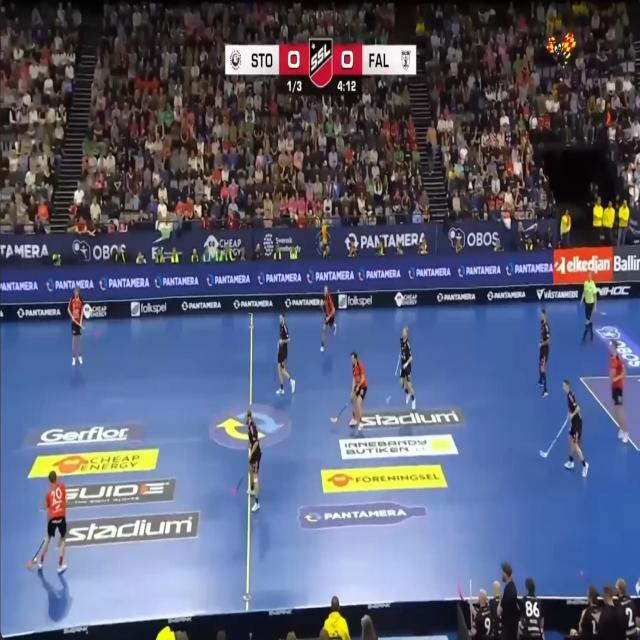player: (38, 472, 67, 573), (562, 380, 588, 477), (609, 339, 628, 442), (614, 578, 640, 639), (246, 410, 261, 512), (571, 585, 599, 639), (276, 314, 295, 393), (518, 577, 543, 637), (350, 351, 367, 430), (470, 589, 495, 639), (400, 326, 415, 409), (68, 287, 83, 364), (320, 285, 337, 351), (581, 271, 597, 341), (538, 309, 550, 396)
stick: (27, 540, 44, 568), (540, 433, 557, 458), (330, 403, 348, 422), (231, 473, 245, 494), (469, 578, 475, 620), (273, 355, 279, 385), (558, 417, 567, 434), (457, 583, 465, 602), (395, 354, 400, 377), (72, 319, 83, 328), (635, 578, 640, 596), (470, 578, 473, 599), (385, 395, 391, 404), (277, 341, 280, 354)
